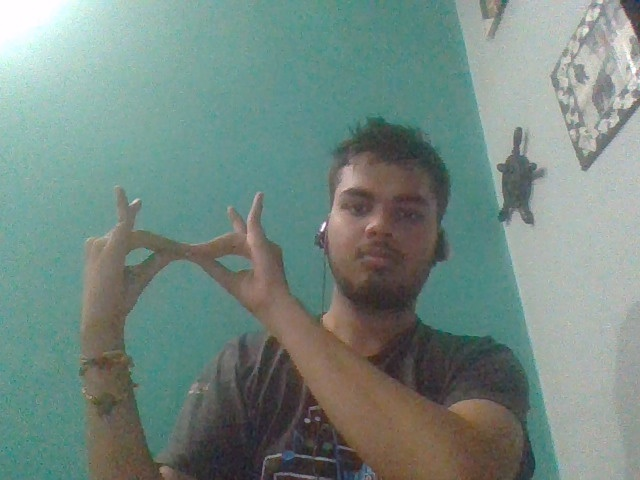family: (73, 185, 302, 310)
